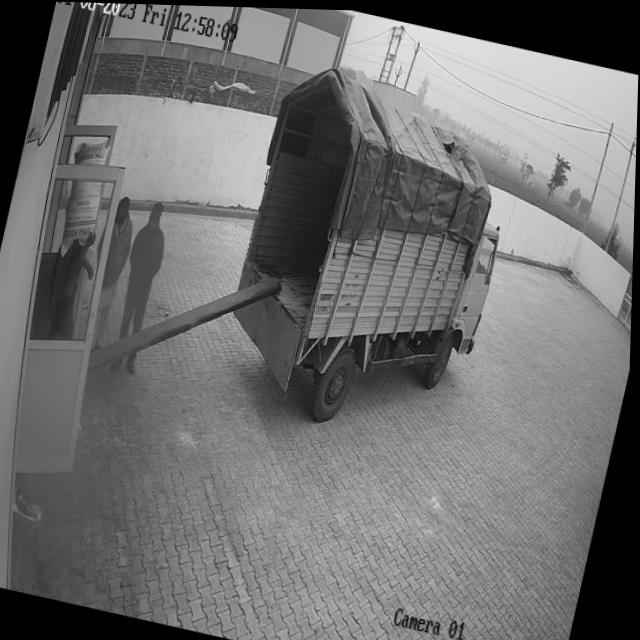sack: (52, 130, 117, 261)
